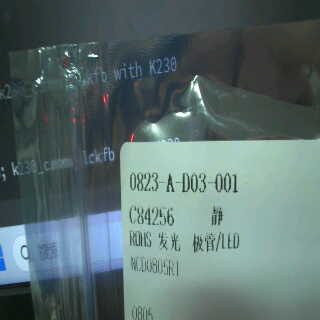LED: (150, 229, 243, 256)
